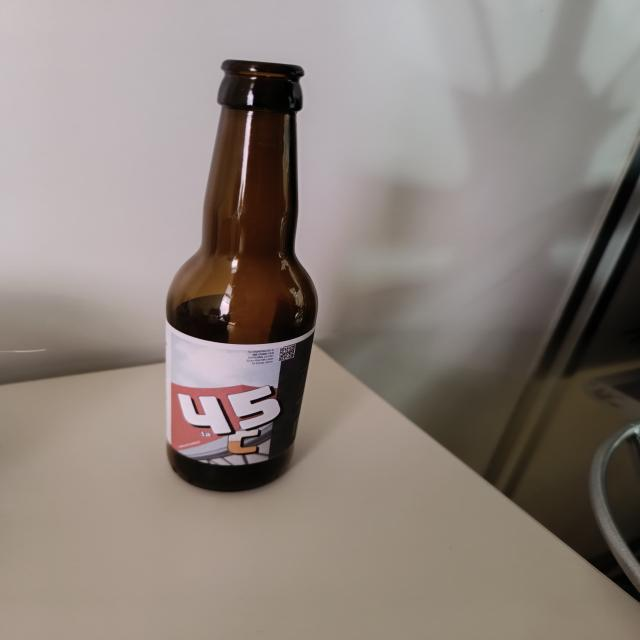Bottle: (156, 53, 312, 496)
Label: (161, 310, 305, 470)
